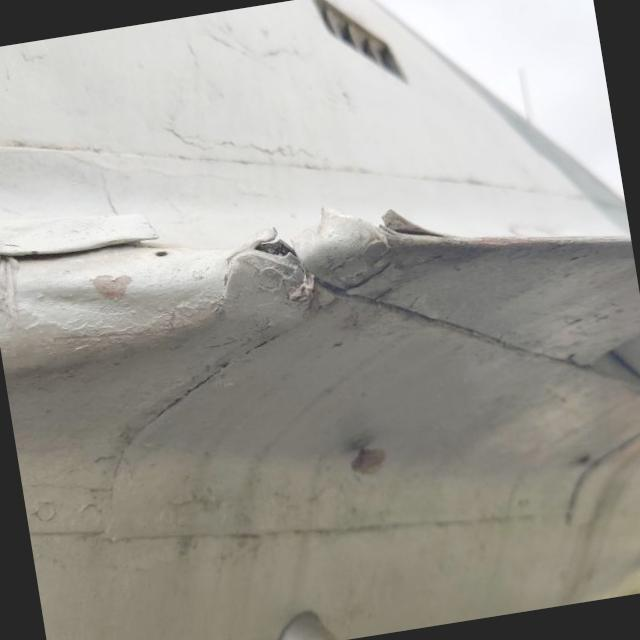crack: (311, 158, 472, 278), (224, 208, 314, 284)
